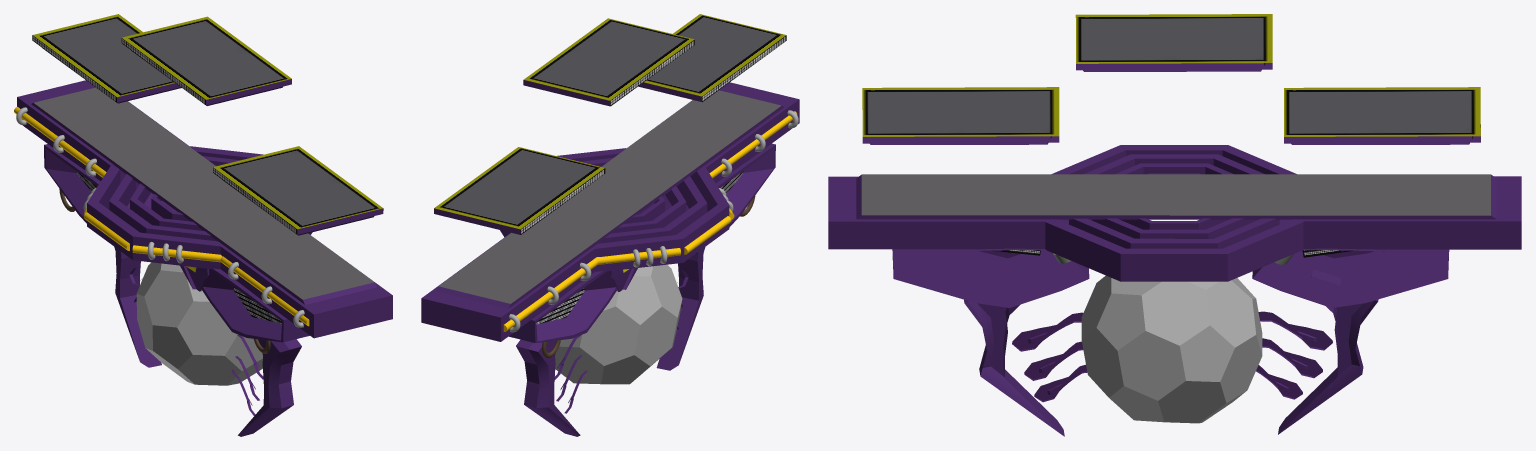
Rendered from BattlefieldMelee.fbx.
3 renders of one model, left to right at view 1: azimuth 30°, elevation 25°; view 2: azimuth 150°, elevation 25°; view 3: azimuth 270°, elevation 25°, orthographic. The views are drawn at different scales.
Visible parts, largest first — view 1: polySurface103, polySurface102, polySurface105, polySurface112, polySurface110, polySurface94, polySurface106, polySurface88, polySurface77, polySurface68, polySurface78, polySurface87 (+9 smaller); view 2: polySurface103, polySurface102, polySurface110, polySurface112, polySurface105, polySurface68, polySurface106, polySurface87, polySurface78, polySurface94, polySurface77, polySurface88 (+9 smaller); view 3: polySurface103, polySurface102, polySurface106, polySurface105, polySurface110, polySurface112, polySurface88, polySurface87, polySurface94, polySurface68, polySurface93, polySurface78 (+7 smaller).
Part boxes in pixels (x1=…): polySurface103: x1=31, y1=87, x2=376, y2=304; polySurface102: x1=136, y1=262, x2=262, y2=385; polySurface105: x1=213, y1=146, x2=383, y2=234; polySurface112: x1=121, y1=16, x2=291, y2=105; polySurface110: x1=32, y1=14, x2=180, y2=102; polySurface94: x1=220, y1=238, x2=392, y2=338; polySurface106: x1=87, y1=146, x2=312, y2=269; polySurface88: x1=201, y1=268, x2=309, y2=342; polySurface77: x1=238, y1=339, x2=301, y2=436; polySurface68: x1=17, y1=80, x2=188, y2=180; polySurface78: x1=114, y1=247, x2=161, y2=367; polySurface87: x1=44, y1=144, x2=177, y2=223; polySurface103: x1=436, y1=90, x2=783, y2=308; polySurface102: x1=555, y1=264, x2=682, y2=384; polySurface110: x1=434, y1=147, x2=605, y2=234; polySurface112: x1=523, y1=18, x2=694, y2=106; polySurface105: x1=638, y1=14, x2=786, y2=101; polySurface68: x1=421, y1=233, x2=594, y2=341; polySurface106: x1=500, y1=148, x2=729, y2=271; polySurface87: x1=509, y1=271, x2=617, y2=342; polySurface78: x1=516, y1=339, x2=580, y2=436; polySurface94: x1=627, y1=82, x2=799, y2=182; polySurface77: x1=656, y1=247, x2=705, y2=370; polySurface88: x1=638, y1=143, x2=775, y2=227; polySurface103: x1=856, y1=174, x2=1496, y2=219; polySurface102: x1=1081, y1=275, x2=1262, y2=423; polySurface106: x1=1045, y1=145, x2=1303, y2=281; polySurface105: x1=862, y1=87, x2=1059, y2=143; polySurface110: x1=1284, y1=87, x2=1480, y2=143; polySurface112: x1=1075, y1=14, x2=1272, y2=70; polySurface88: x1=892, y1=219, x2=1089, y2=307; polySurface87: x1=1252, y1=219, x2=1449, y2=307; polySurface94: x1=828, y1=176, x2=1045, y2=249; polySurface68: x1=1303, y1=176, x2=1521, y2=249; polySurface93: x1=1069, y1=154, x2=1279, y2=248; polySurface78: x1=1278, y1=269, x2=1378, y2=434.
Size of the model in its own units: 8.52 by 14.21 by 22.42.
